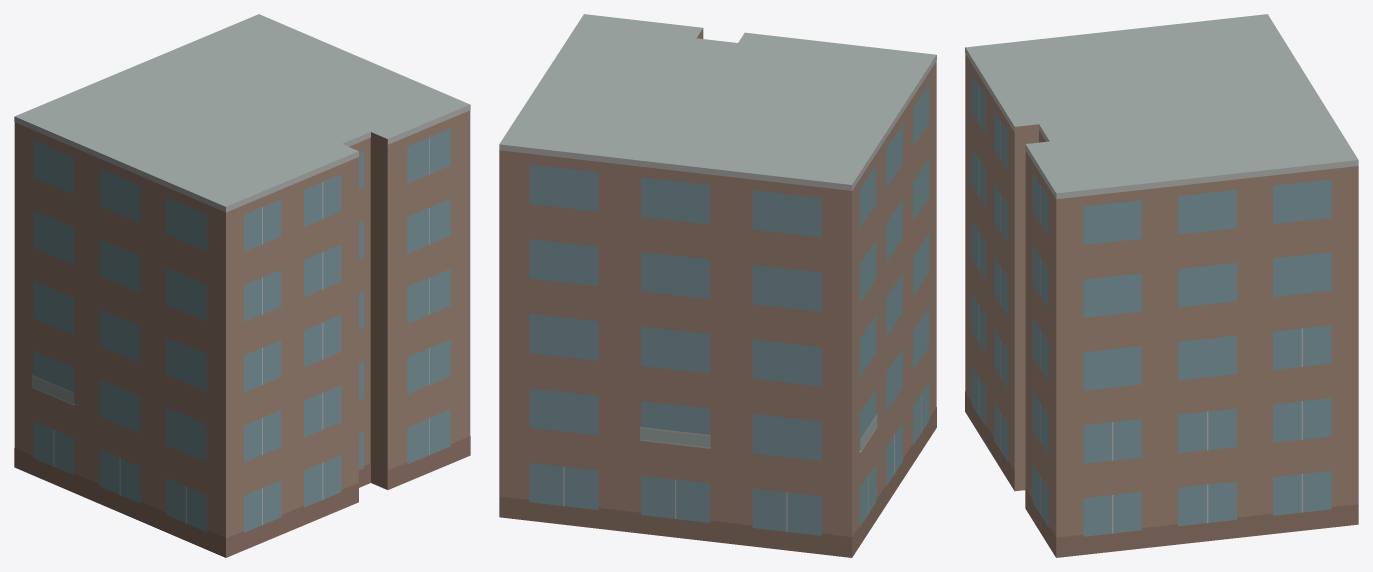
Rendered from survey-upis-32958529.glb.
3 views of the same model, side by side, from view 1: azimuth 30°, elevation 25°; view 2: azimuth 150°, elevation 25°; view 3: azimuth 270°, elevation 25° (orthographic). The views are drawn at different scales.
Visible parts, largest first — view 1: survey-upis-32958529.tmp; view 2: survey-upis-32958529.tmp; view 3: survey-upis-32958529.tmp.
Part boxes in pixels (<box>): survey-upis-32958529.tmp: <box>14,14,470,557</box>; survey-upis-32958529.tmp: <box>499,14,936,557</box>; survey-upis-32958529.tmp: <box>965,14,1358,557</box>.
Bounding box in the file's own units: 16.11 × 15.25 × 14.93.
